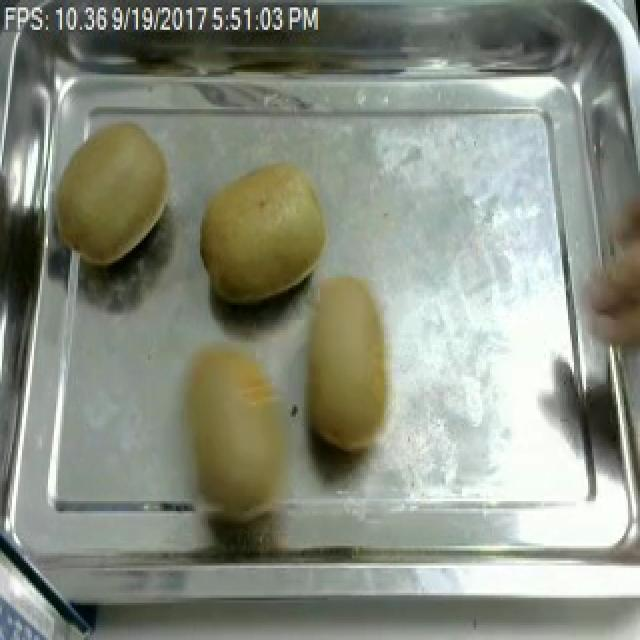Fruit: (166, 332, 328, 518), (286, 265, 402, 464), (192, 154, 338, 312), (46, 112, 180, 275)
